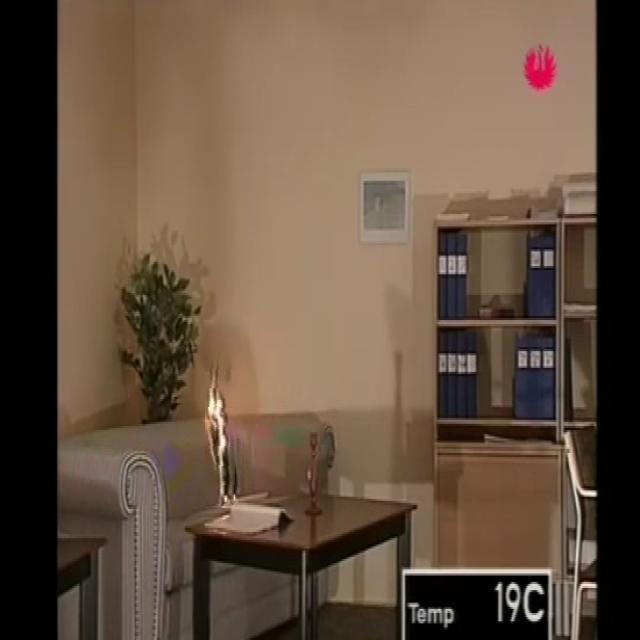smoke: (205, 358, 241, 508)
